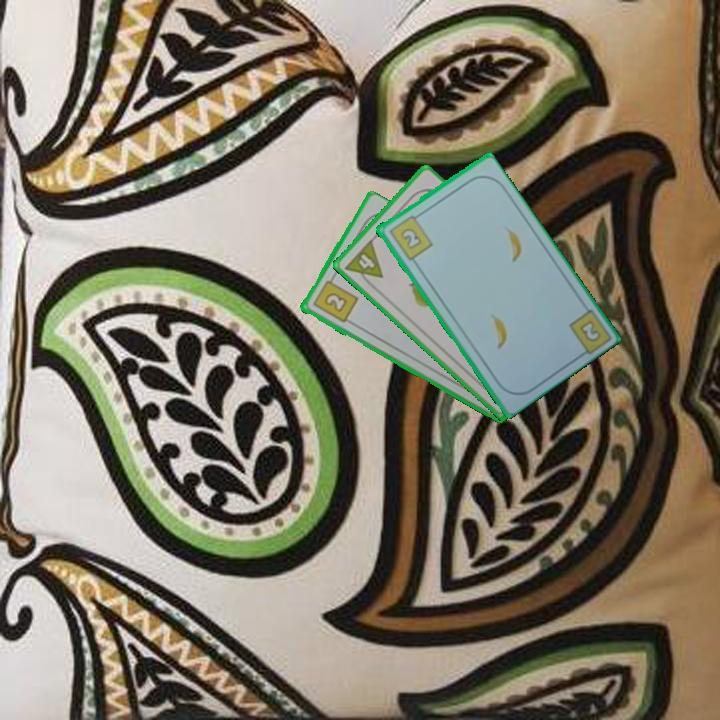2b: (309, 272, 360, 326), (385, 210, 435, 263), (576, 316, 603, 345)
4p: (341, 236, 386, 291)
